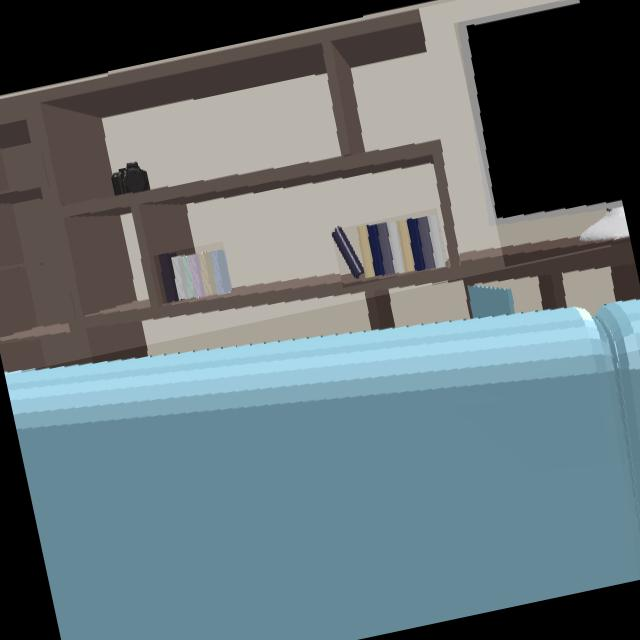book: (333, 215, 447, 280), (158, 250, 232, 305)
bookshelf: (0, 10, 616, 375)
monitor: (458, 0, 630, 248)
sofa: (5, 301, 640, 640)
